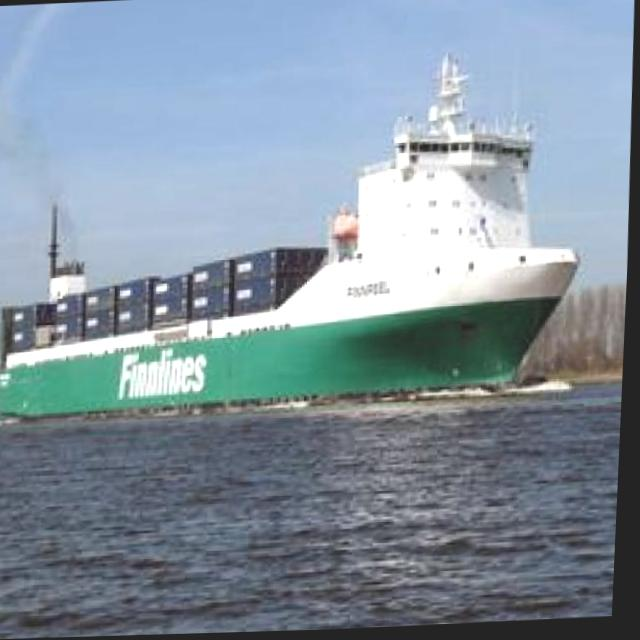ship2: (0, 56, 584, 421)
